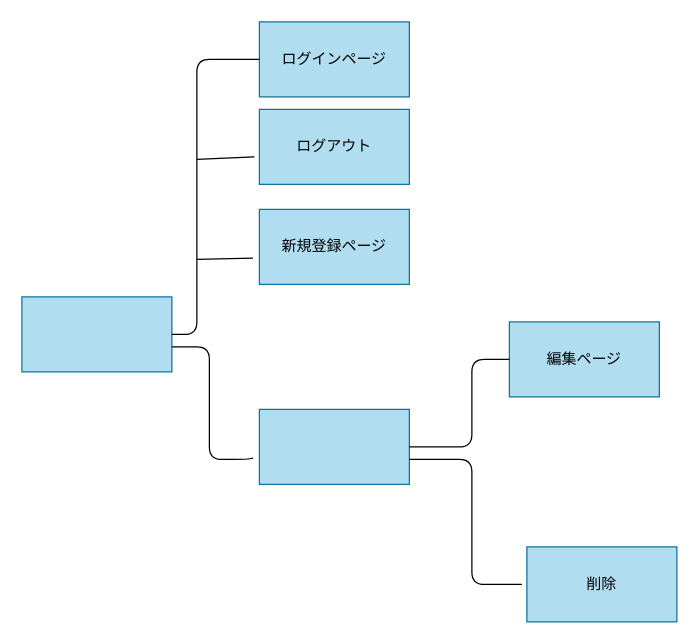
The diagram is 699 pixels wide and 644 high, and some of its shapes have lost their labels. Here are the shapes that lost their labels. From the top down, the centre of each, then its label:
At point 96,334: "TOPページ".
At point 333,446: "詳細表示ページ".
